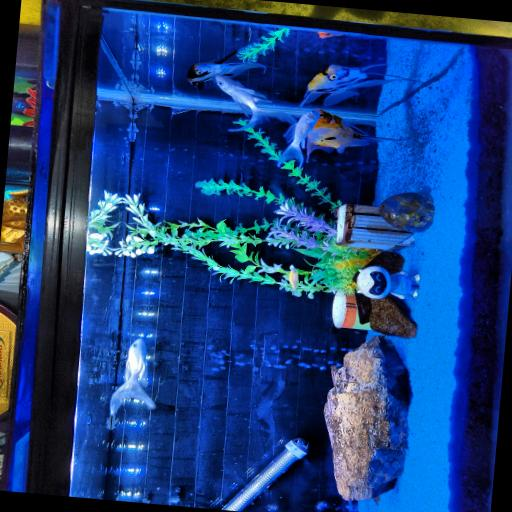Fish: (307, 110, 401, 161), (300, 64, 408, 107), (215, 76, 296, 131), (110, 339, 156, 417), (187, 51, 264, 89), (278, 110, 320, 168), (288, 265, 299, 290), (319, 32, 342, 38)
